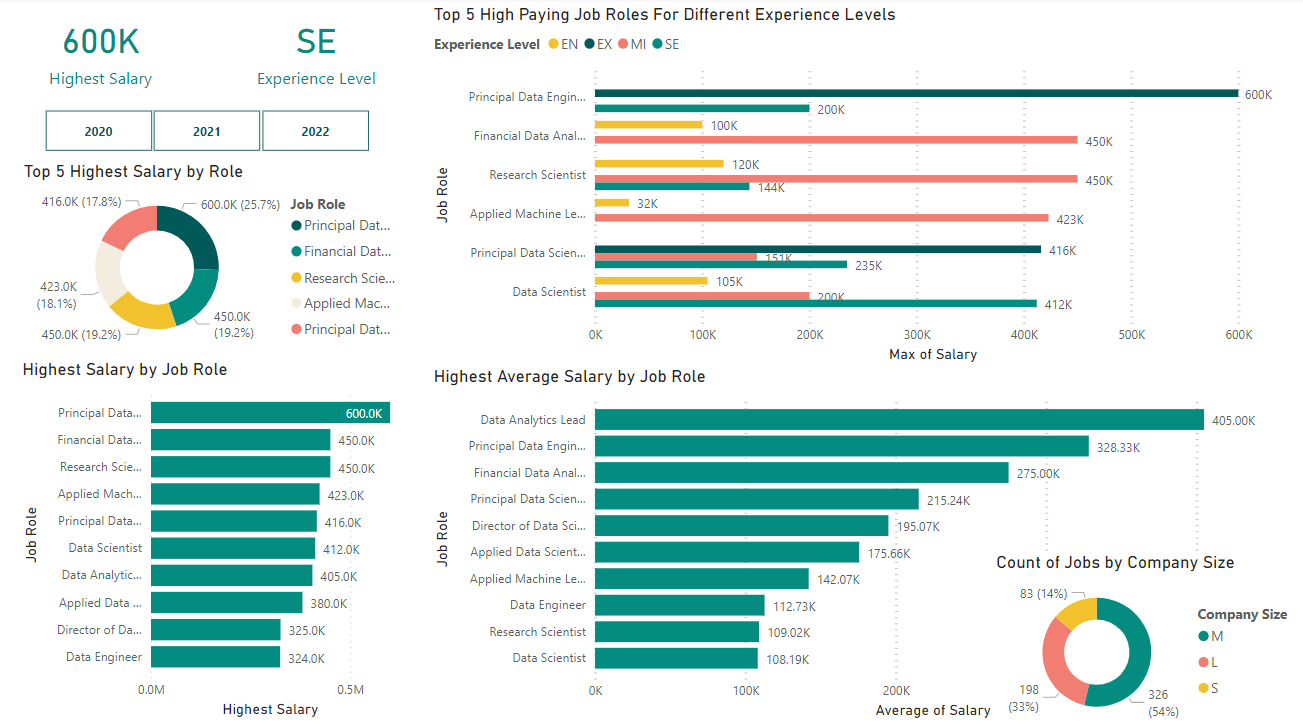

What the dashboard file says about the page in this screenshot:
{"tool":"powerbi","page":{"name":"Page 1","canvas":[1280,720],"ordinal":0},"visuals":[{"type":"barChart","fields":{"Category":["ds_salaries.job_title"],"Y":["Max(ds_salaries.salary_in_usd)"]},"box":[22.5,353.8,383.8,356.2],"z":0},{"type":"card","fields":{"Values":["Max(ds_salaries.salary_in_usd)"]},"box":[0.4,1,206.7,100],"z":1000},{"type":"slicer","fields":{"Values":["ds_salaries.work_year"]},"box":[23.8,103.8,366.2,53.8],"z":2000},{"type":"clusteredBarChart","title":"Top 5 High Paying Job Roles For Different Experience Levels","fields":{"Category":["ds_salaries.job_title"],"Y":["Max(ds_salaries.salary_in_usd)"],"Series":["ds_salaries.experience_level"]},"box":[423.8,6.2,843.8,356.2],"z":3000},{"type":"card","fields":{"Values":["Max(ds_salaries.experience_level)"]},"box":[203.7,1,220,100],"z":4000},{"type":"barChart","title":"Highest Average Salary by Job Role","fields":{"Category":["ds_salaries.job_title"],"Y":["Avg(ds_salaries.salary_in_usd)"]},"box":[424.2,360.6,843.5,349.6],"z":5000},{"type":"donutChart","title":"Top 5 Highest Salary by Role","fields":{"Category":["ds_salaries.job_title"],"Y":["Max(ds_salaries.salary_in_usd)"]},"box":[22.9,160.2,383.8,190],"z":6000},{"type":"donutChart","title":"Count of Jobs by Company Size","fields":{"Category":["ds_salaries.company_size"],"Y":["CountNonNull(ds_salaries.job_title)"]},"box":[974.3,542.9,305.7,177.1],"z":7000}]}

Visuals, with their boxes in screenshot pixels (x1, y1, x2, y2), scaled from the page's 1280x720 canvas onto the 1303x728 screenshot:
barChart - ds_salaries.job_title x Max(ds_salaries.salary_in_usd): x1=23 y1=358 x2=414 y2=718
card - Max(ds_salaries.salary_in_usd): x1=0 y1=1 x2=211 y2=102
slicer - ds_salaries.work_year: x1=24 y1=105 x2=397 y2=159
"Top 5 High Paying Job Roles For Different Experience Levels" clusteredBarChart: x1=431 y1=6 x2=1290 y2=366
card - Max(ds_salaries.experience_level): x1=207 y1=1 x2=431 y2=102
"Highest Average Salary by Job Role" barChart: x1=432 y1=365 x2=1290 y2=718
"Top 5 Highest Salary by Role" donutChart: x1=23 y1=162 x2=414 y2=354
"Count of Jobs by Company Size" donutChart: x1=992 y1=549 x2=1302 y2=727
